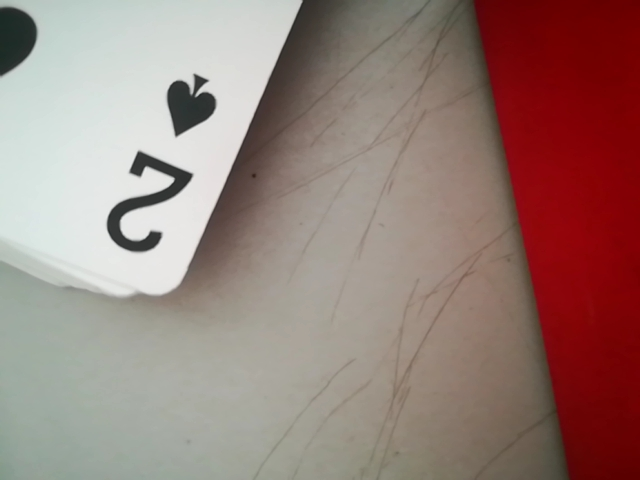ht 2: (78, 16, 243, 306)
